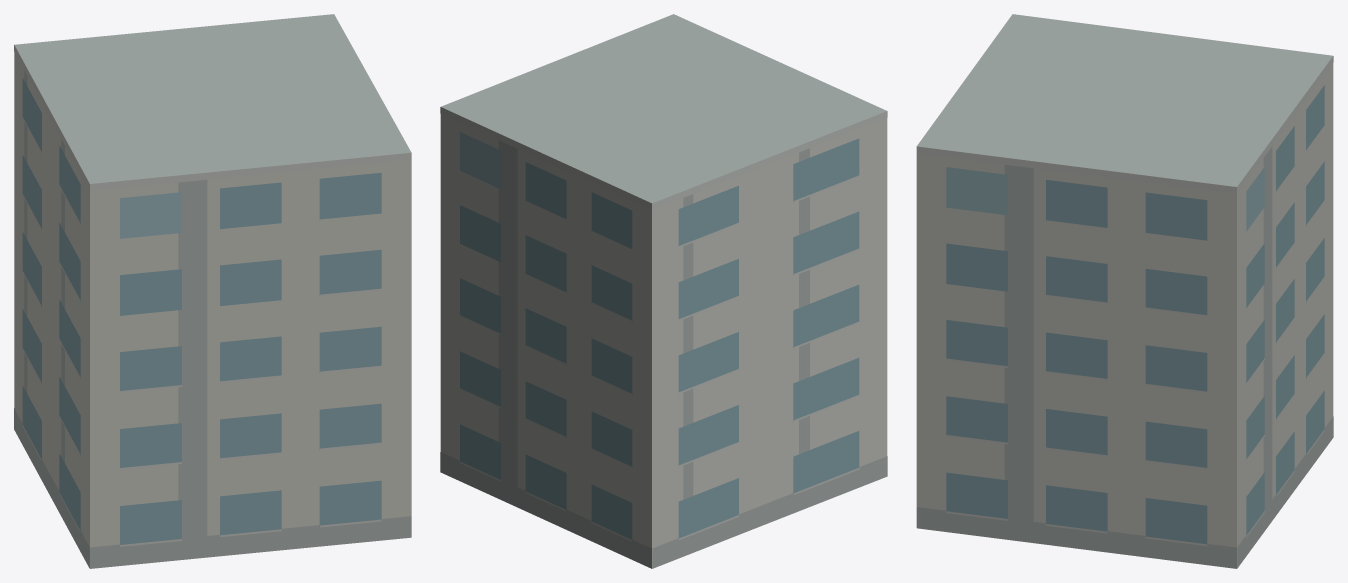
The model's file is survey-upis-32532043.glb.
3 views of the same model, side by side, from view 1: azimuth 30°, elevation 25°; view 2: azimuth 150°, elevation 25°; view 3: azimuth 270°, elevation 25° (orthographic). The views are drawn at different scales.
Parts seen in each view (by area): view 1: survey-upis-32532043.tmp; view 2: survey-upis-32532043.tmp; view 3: survey-upis-32532043.tmp.
Part boxes in pixels (x1,y1,x2,y2): survey-upis-32532043.tmp: (14, 14, 411, 568); survey-upis-32532043.tmp: (440, 14, 887, 568); survey-upis-32532043.tmp: (916, 14, 1333, 568).
Bounding box in the file's own units: 12.84 × 13.2 × 13.07.
